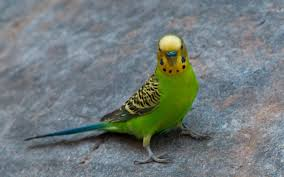budgie: (31, 32, 207, 165)
